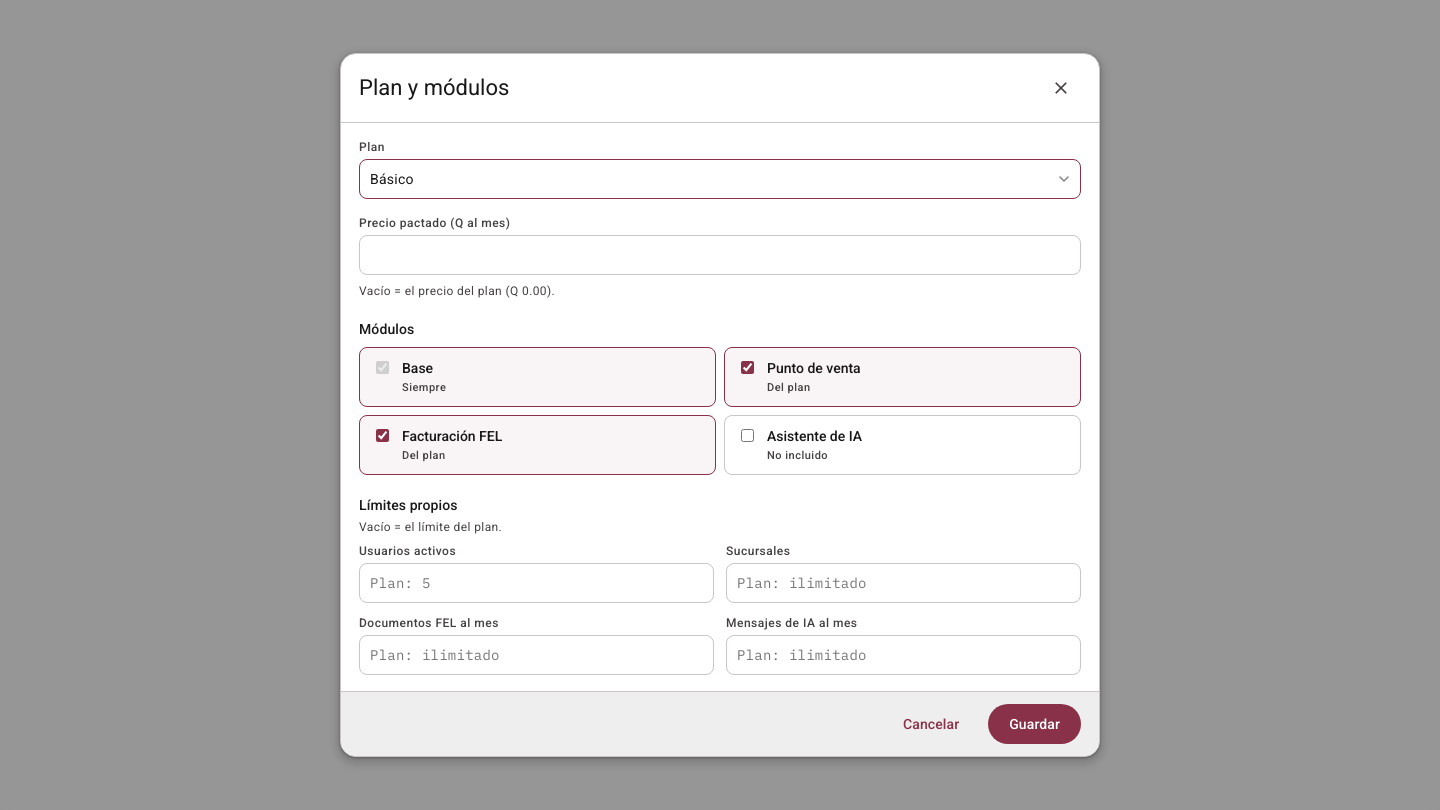
Test case: SubscriptionDialog › cambiar de plan regresa los módulos a los del plan nuevo
Click the checkbox labelled "Punto de venta Del plan" at {"x": 748, "y": 368}, box [741, 361, 754, 374]
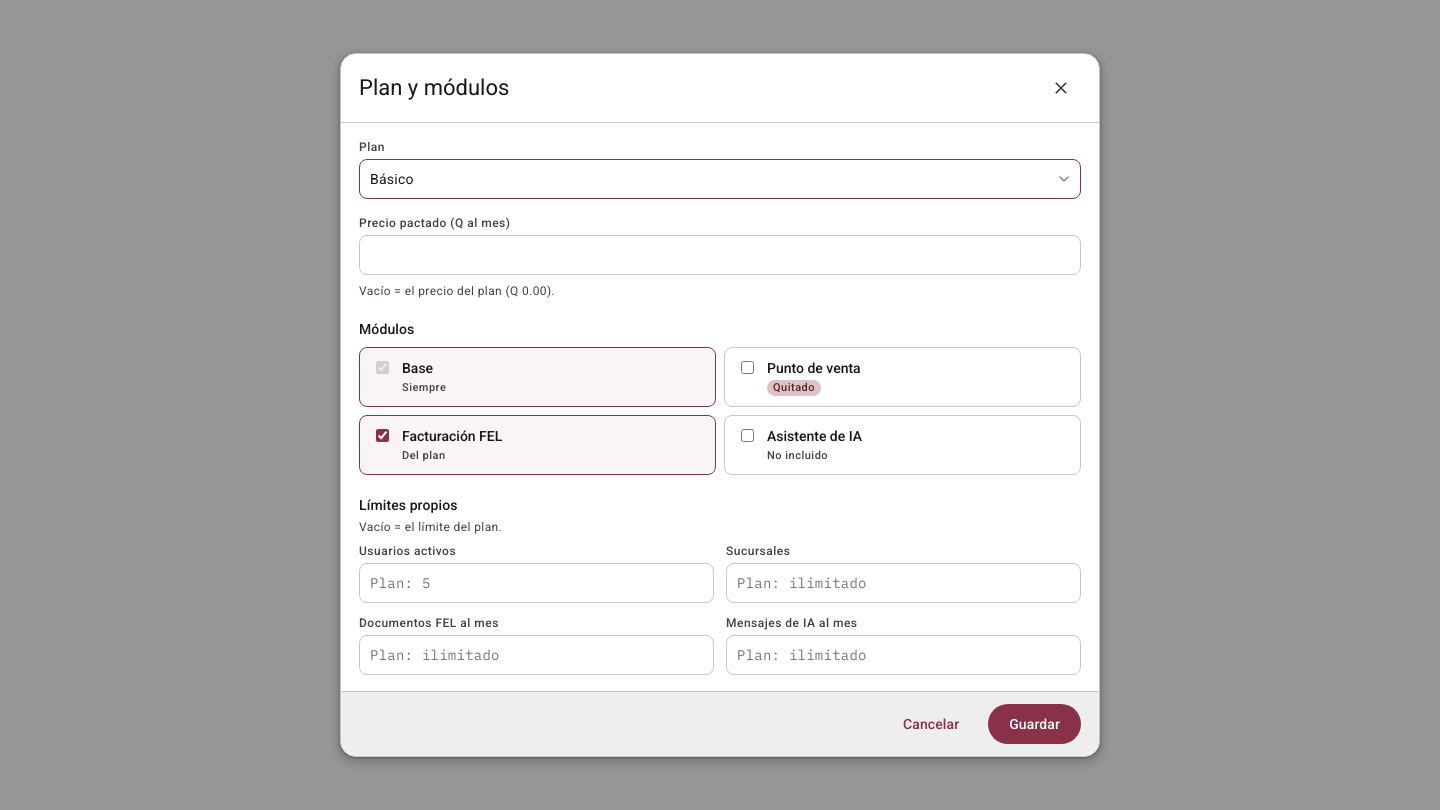
Select "Completo" in the dropdown labelled "Plan" at {"x": 720, "y": 179}, box [359, 159, 1081, 199]
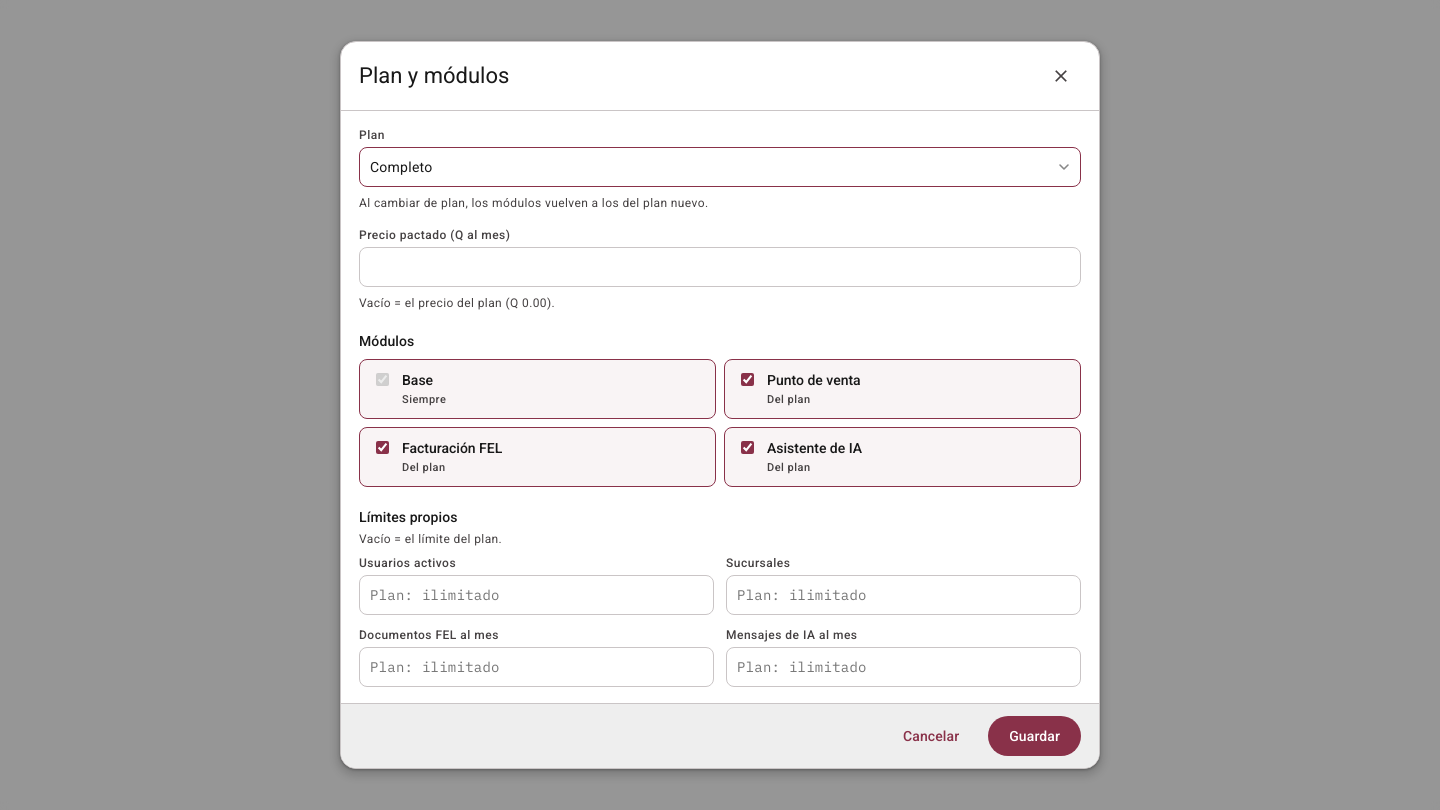
Expected: the checkbox labelled "Base Siempre" is disabled, [376, 373, 389, 386]
Result: the checkbox labelled "Punto de venta Del plan" is checked at [741, 373, 754, 386]
Result: the checkbox labelled "Asistente de IA Del plan" is checked at [741, 441, 754, 454]
